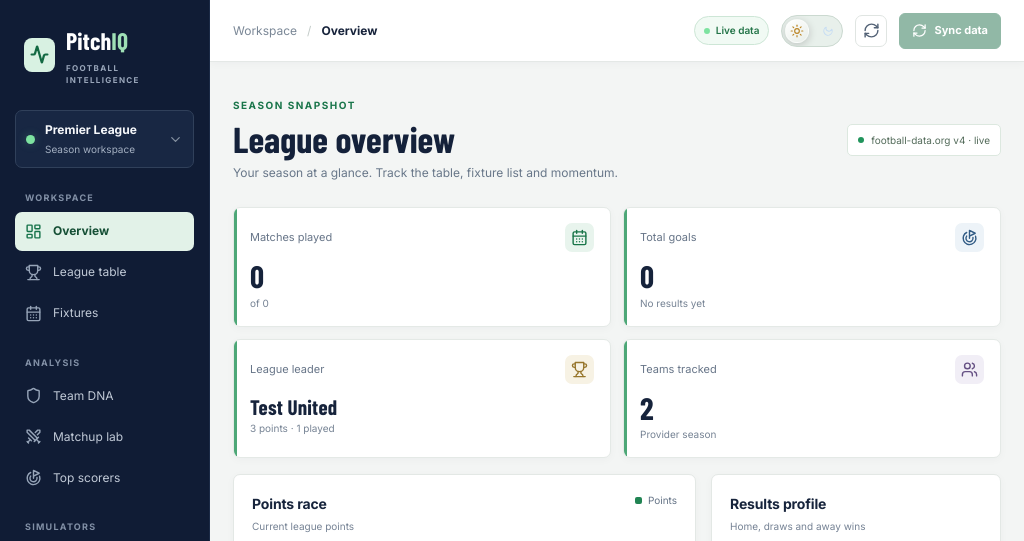
Test: PitchIQ dashboard interactions › loads GraphQL-backed dashboard data and navigates to the standings page
The width and height of the screenshot is (1024, 541).
Expected: the heading "League overview" is shown, x1=233 y1=116 x2=455 y2=160
Expected: the text "Test United" is shown, x1=250 y1=394 x2=337 y2=418
Click the button "League table" at point(104, 272), box x1=15 y1=252 x2=194 y2=292
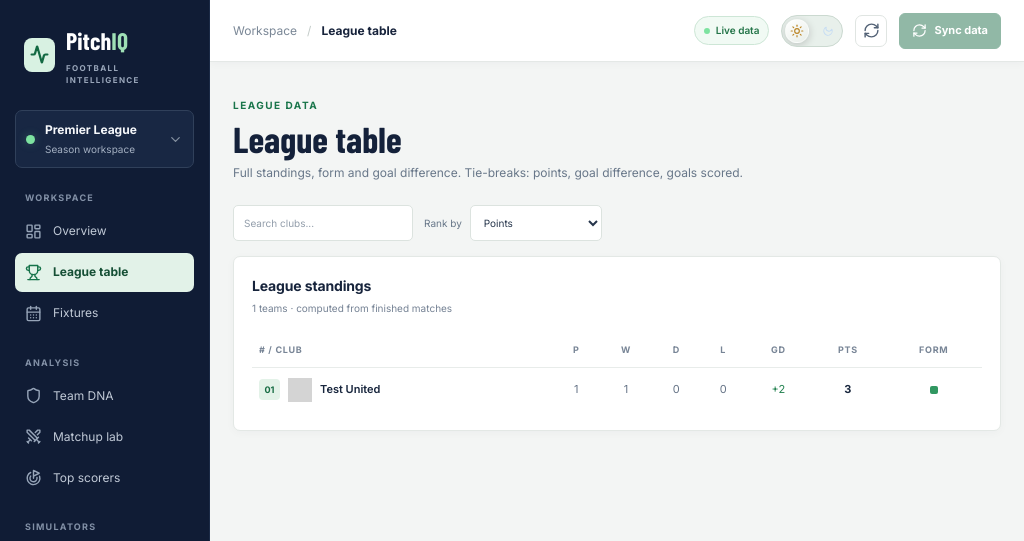
Expected: the heading "League table" is shown, x1=233 y1=116 x2=402 y2=160
Expected: the text "Full standings, form and goal difference. Tie-breaks: points, goal difference, goals scored." is shown, x1=233 y1=165 x2=743 y2=180
